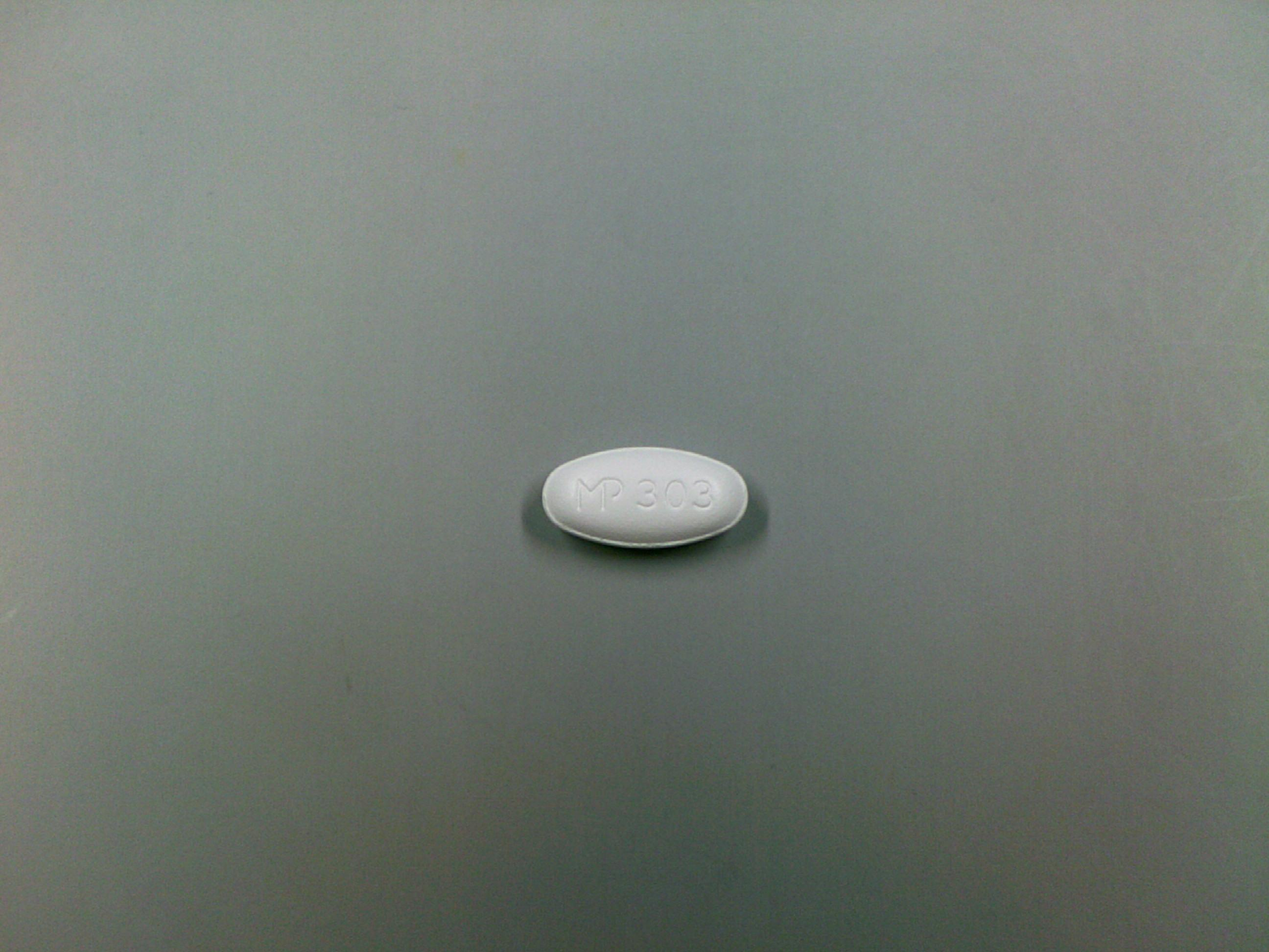Pill: (529, 442, 767, 555)
